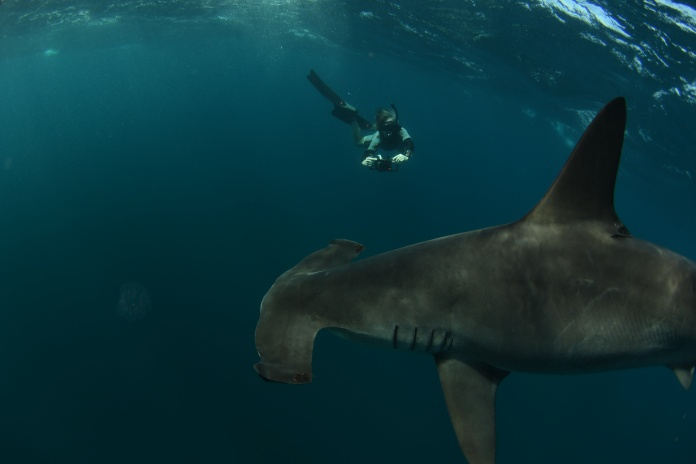Hammer: (256, 84, 688, 463)
